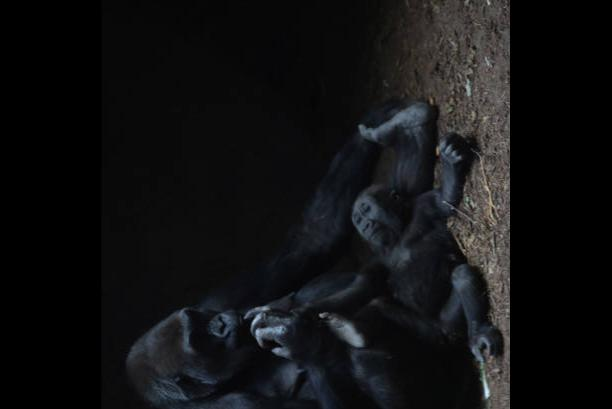gorille_Autres: (125, 116, 478, 409)
